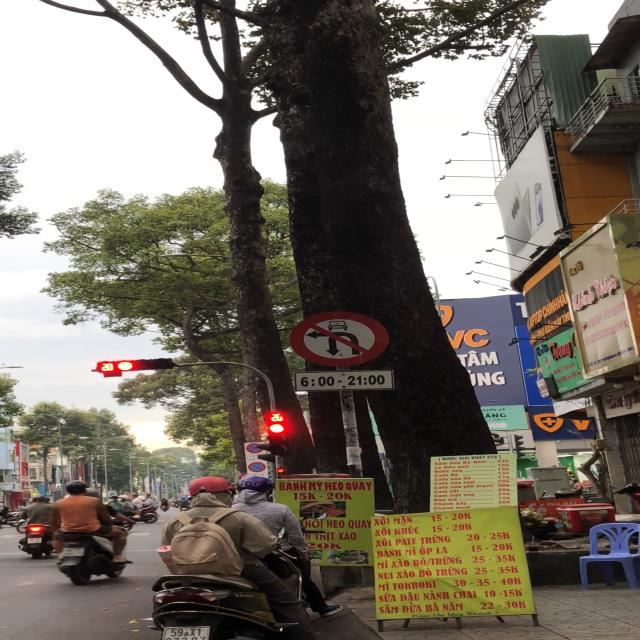Bien bao cam oto re trai va quay dau xe: (285, 311, 391, 367)
